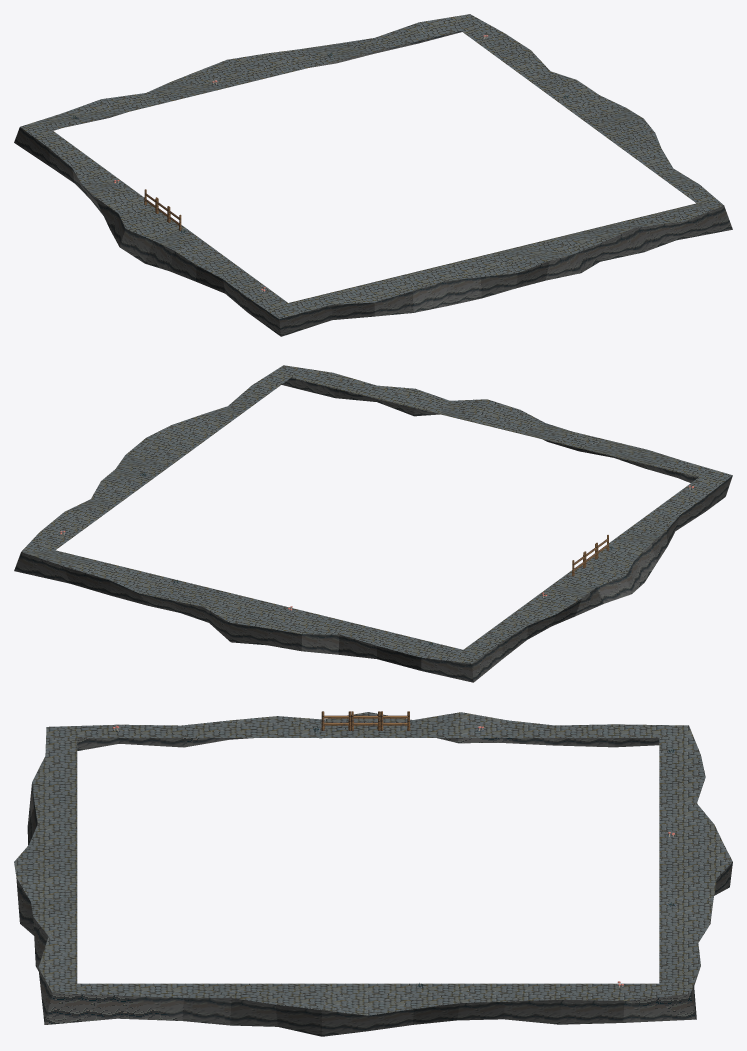
File: entorno_18.glb
3 renders of one model, top to bottom at view 1: azimuth 30°, elevation 25°; view 2: azimuth 150°, elevation 25°; view 3: azimuth 270°, elevation 25°, orthographic. The views are drawn at different scales.
Visible parts, largest first — view 1: pedreira_entorno_18; view 2: pedreira_entorno_18; view 3: pedreira_entorno_18.
Part boxes in pixels (left/top/right/bottom): pedreira_entorno_18: left=14, top=14, right=732, bottom=336; pedreira_entorno_18: left=14, top=365, right=732, bottom=682; pedreira_entorno_18: left=14, top=711, right=732, bottom=1036.
Bounding box in the file's own units: 22.6 × 1.69 × 22.49.
Materials: 7 (5 with a texture image).
